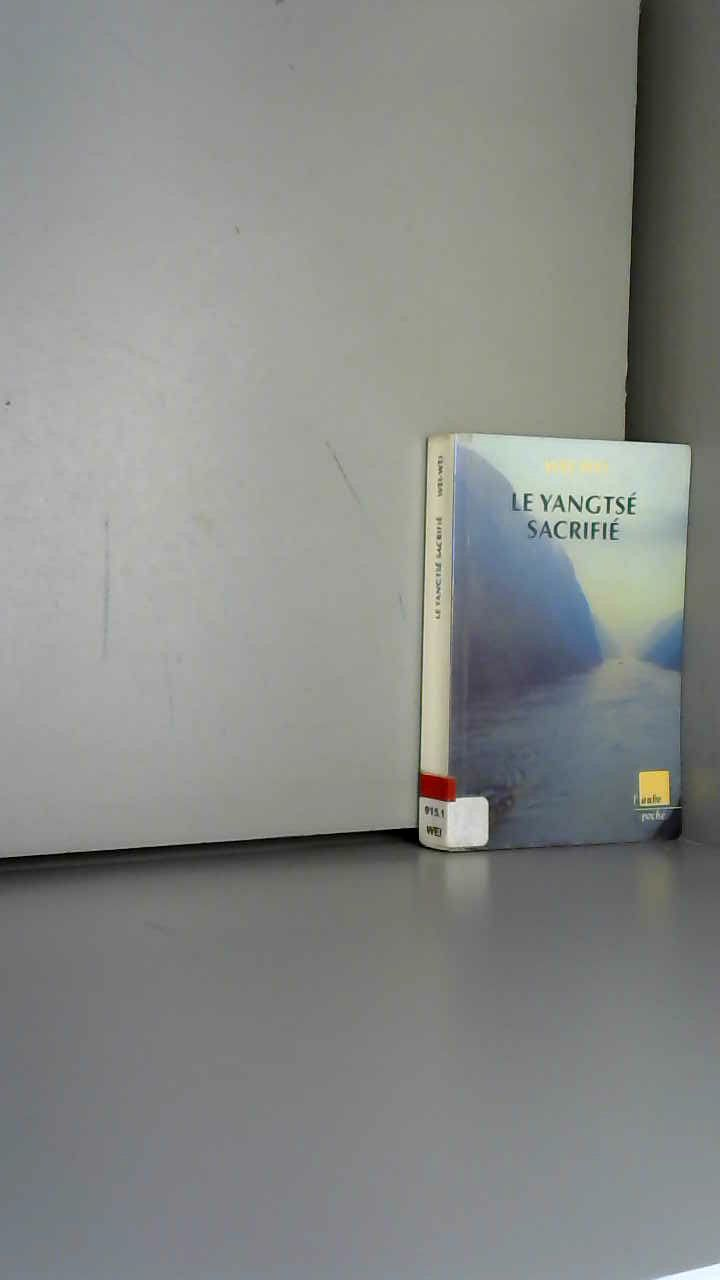book: (390, 400, 720, 877)
